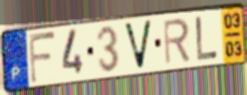3: (95, 24, 121, 75)
4: (61, 27, 87, 81)
F: (27, 30, 58, 86)
L: (193, 15, 220, 62)
R: (162, 16, 192, 67)
V: (122, 19, 154, 72)
